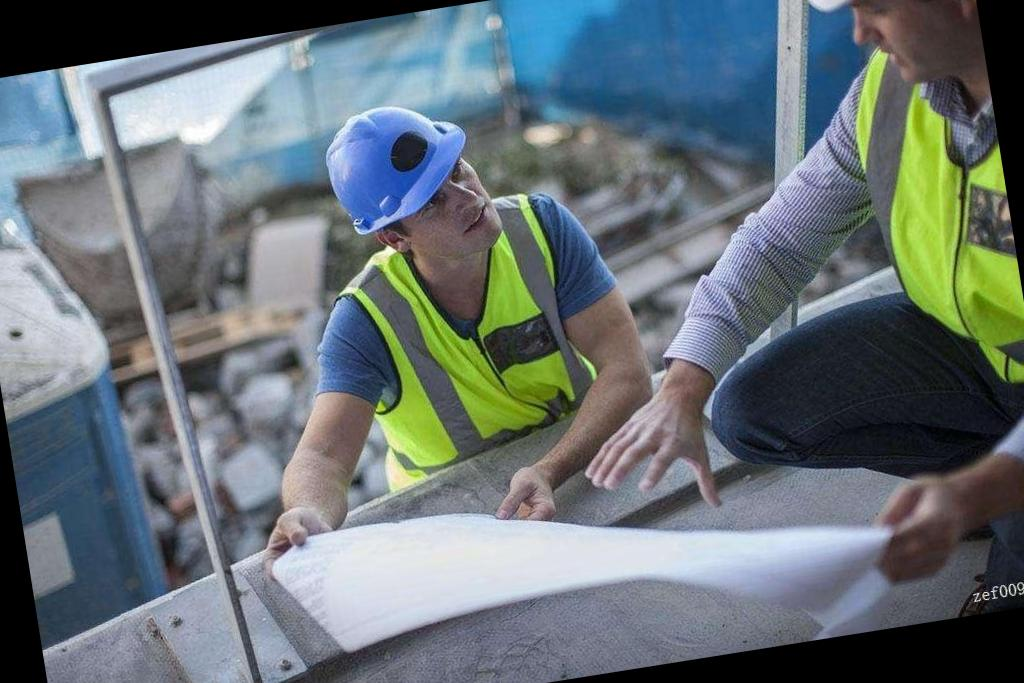Vest: (334, 189, 598, 472), (837, 38, 1024, 411)
